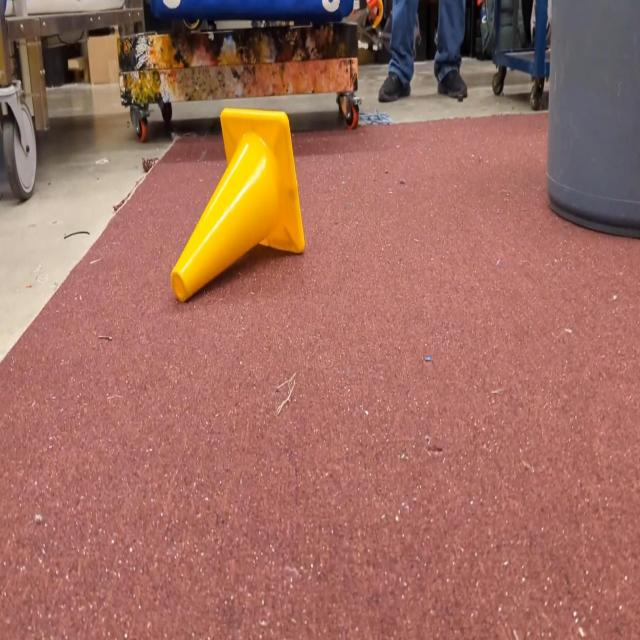frc_cone: (171, 109, 304, 304)
